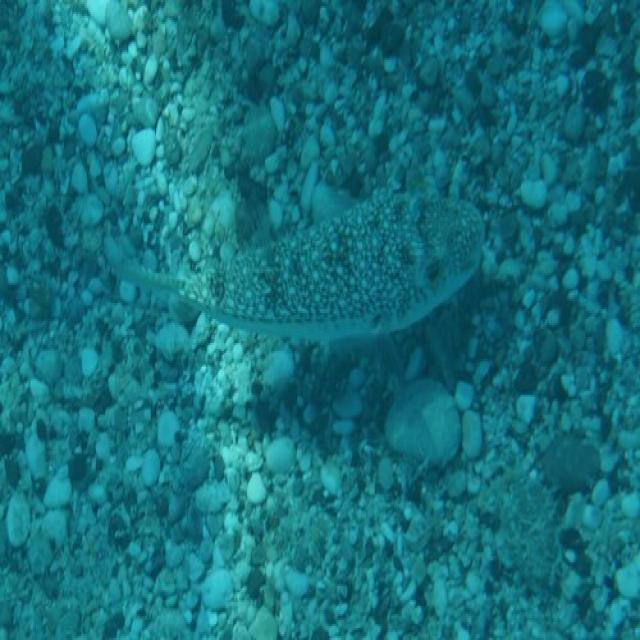Balik: (118, 192, 483, 340)
